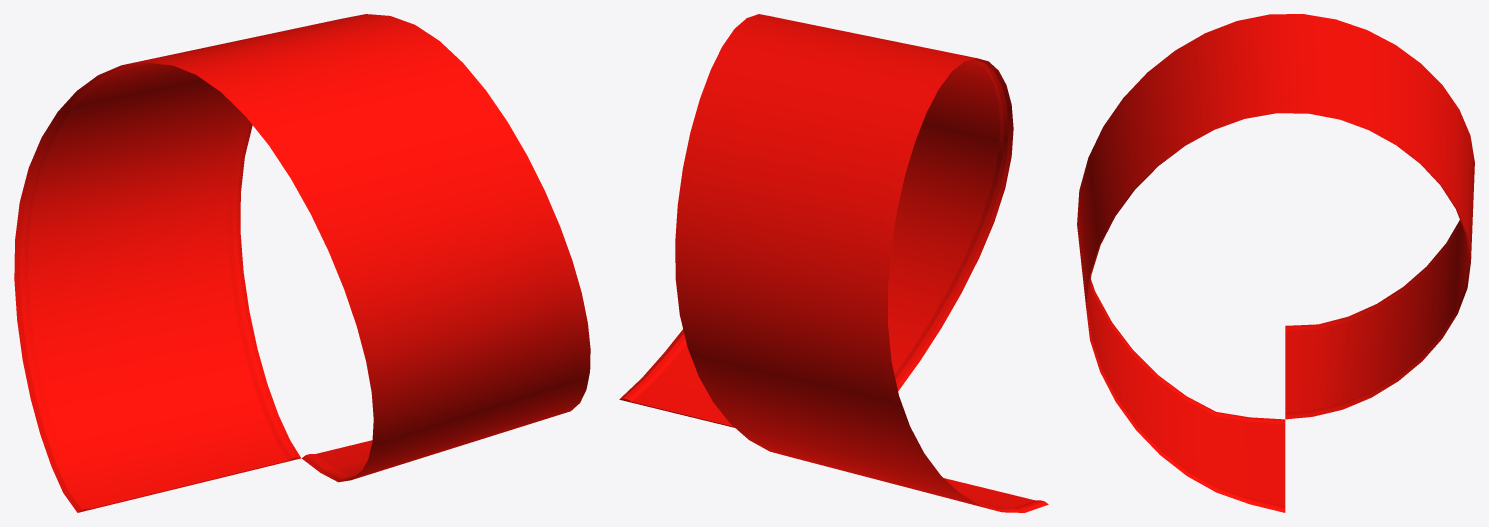
Rendered from loop.fbx.
The picture shows the model from 3 angles, left to right: view 1: azimuth 30°, elevation 25°; view 2: azimuth 150°, elevation 25°; view 3: azimuth 270°, elevation 25°; orthographic projection. The views are drawn at different scales.
Parts seen in each view (by area): view 1: AV_loop_big_55; view 2: AV_loop_big_55; view 3: AV_loop_big_55.
Boxes of the visible parts, bbox=[...] form: AV_loop_big_55: bbox=[14, 14, 590, 512]; AV_loop_big_55: bbox=[619, 14, 1048, 512]; AV_loop_big_55: bbox=[1077, 14, 1474, 512].
Size of the model in its own units: 1219 by 1095 by 1086.
